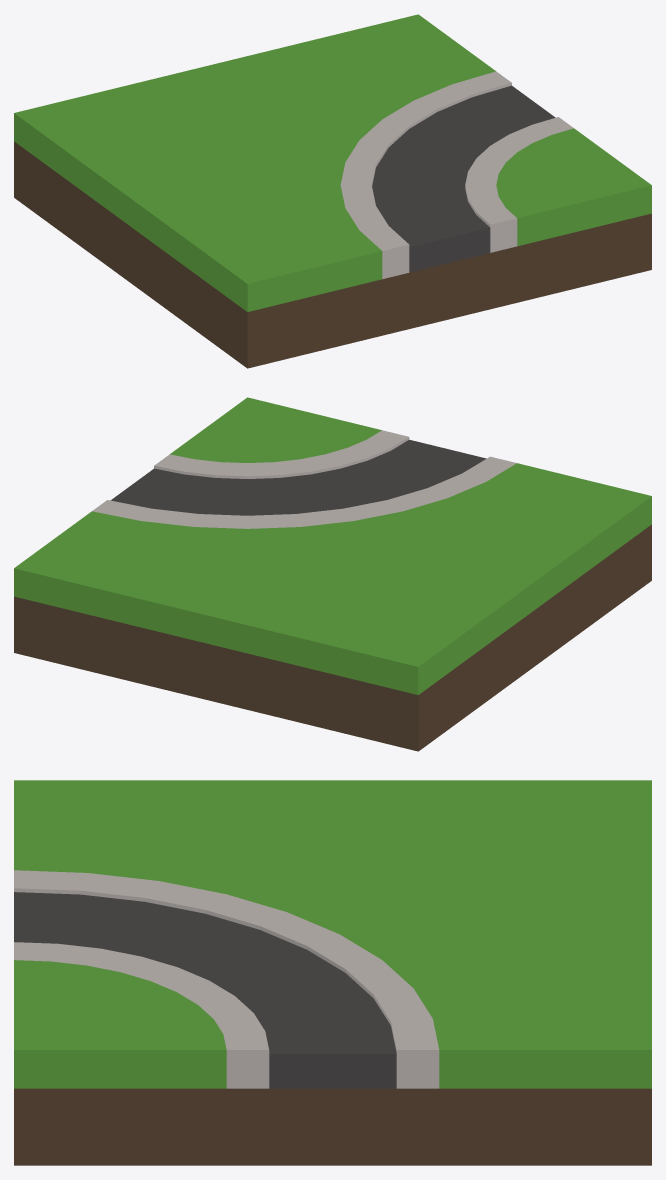
File: tile-road-curve.glb
3 renders of one model, top to bottom at view 1: azimuth 30°, elevation 25°; view 2: azimuth 150°, elevation 25°; view 3: azimuth 270°, elevation 25°, orthographic. The views are drawn at different scales.
Visible parts, largest first — view 1: tile-road-curve; view 2: tile-road-curve; view 3: tile-road-curve.
Boxes of the visible parts, x1,y1,x2,y2 form: tile-road-curve: (14,14,651,368); tile-road-curve: (14,397,651,751); tile-road-curve: (14,780,651,1165).
Bounding box in the file's own units: 30 × 6 × 30.
1 material, 1 textured.
